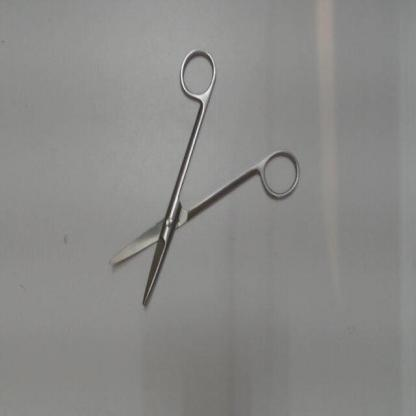Curved Mayo Scissors: (107, 35, 308, 316)
